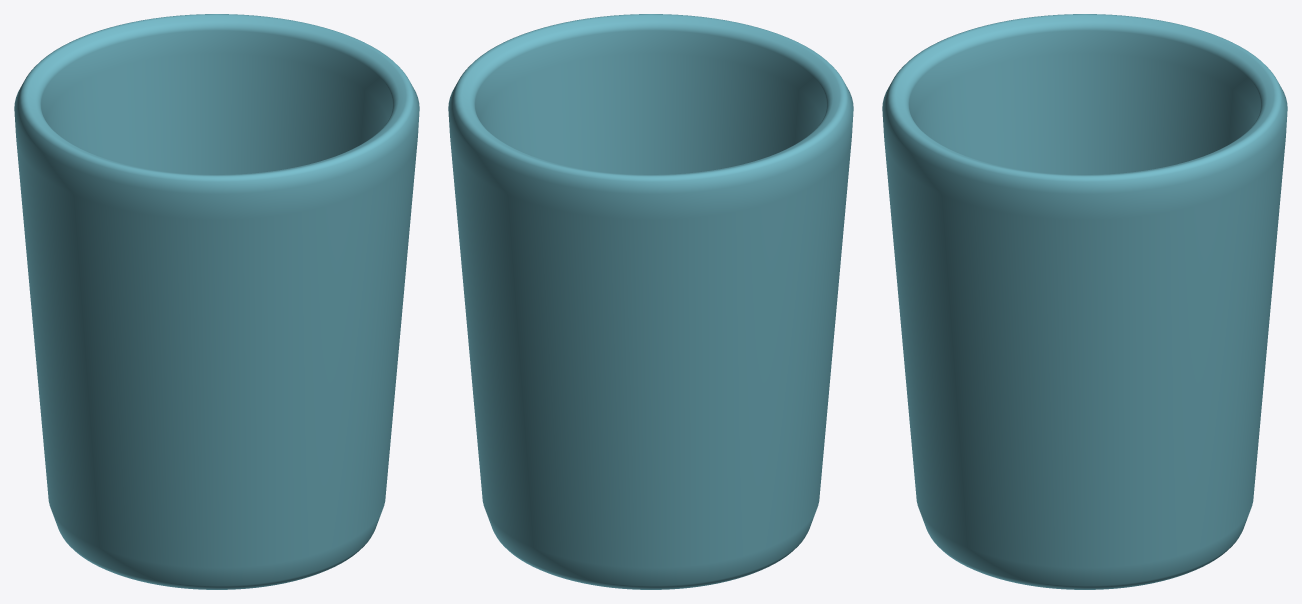
Rendered from SM_Prop02_Vaso_Santiago_Garcia.fbx.
The picture shows the model from 3 angles, left to right: view 1: azimuth 30°, elevation 25°; view 2: azimuth 150°, elevation 25°; view 3: azimuth 270°, elevation 25°; orthographic projection.
Visible parts, largest first — view 1: Vaso | cuerpo liso; view 2: Vaso | cuerpo liso; view 3: Vaso | cuerpo liso.
Part boxes in pixels (left/top/right/bottom): Vaso | cuerpo liso: left=14, top=14, right=419, bottom=589; Vaso | cuerpo liso: left=448, top=14, right=853, bottom=589; Vaso | cuerpo liso: left=882, top=14, right=1287, bottom=589.
Size of the model in its own units: 125 by 149 by 125.
Materials: 2 (2 with a texture image).
